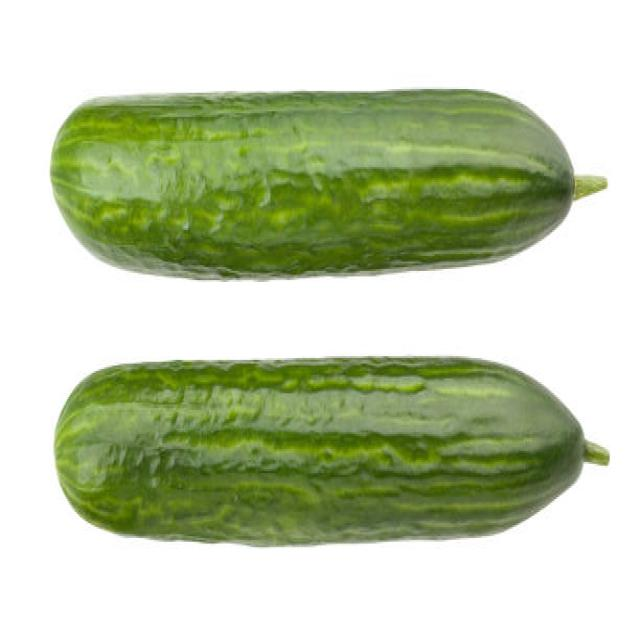cucumber: (53, 356, 585, 546), (50, 86, 577, 276)
